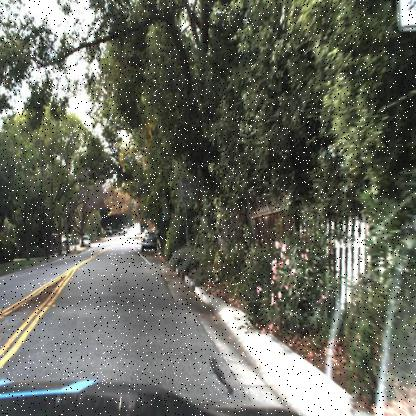car: (137, 227, 159, 256), (139, 228, 159, 255)
